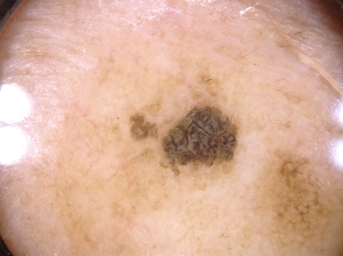seborrheic keratosis: (124, 84, 264, 185)
